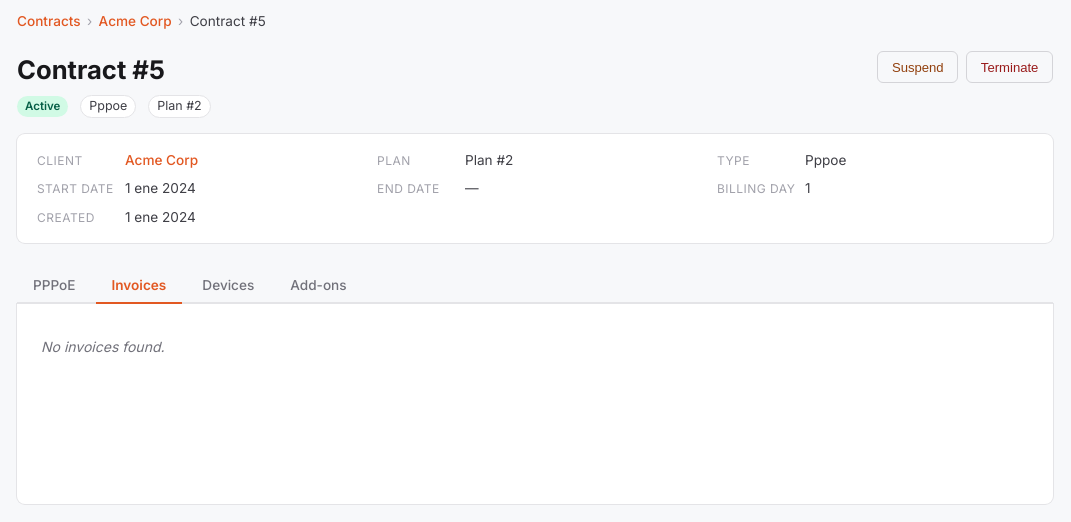
ContractDetail — PPPoE credentials › shows an insufficient-permission note in place of the password when the credentials fetch 403s
Expected: the heading "Contract #5" is shown, [17,54,165,85]
Click the button "PPPoE".
click(54, 286)  # box [17,267,92,304]
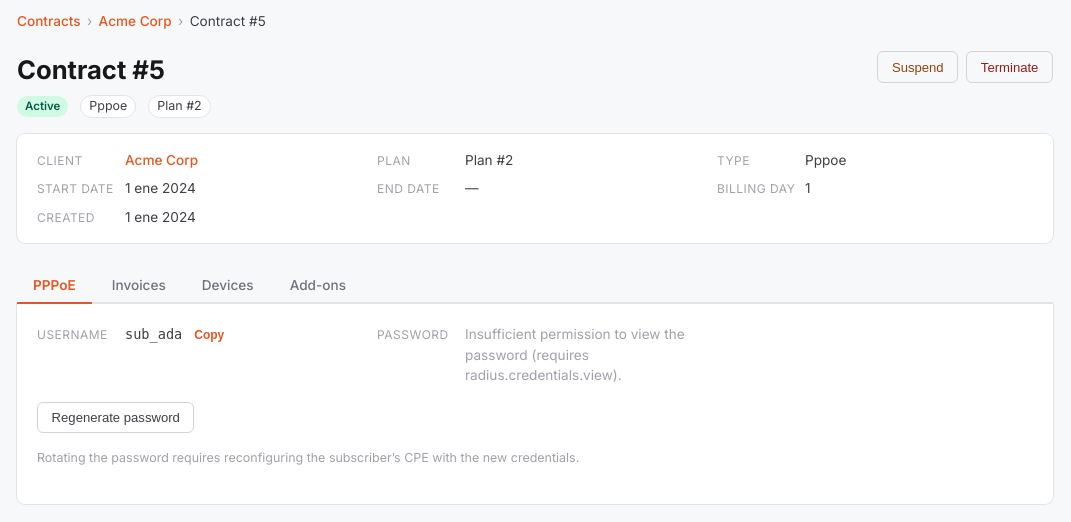
Now the text "sub_ada" is shown, box [125,324,182,345]
Now the text "Insufficient permission to view the password" is shown, box [465,326,685,383]
